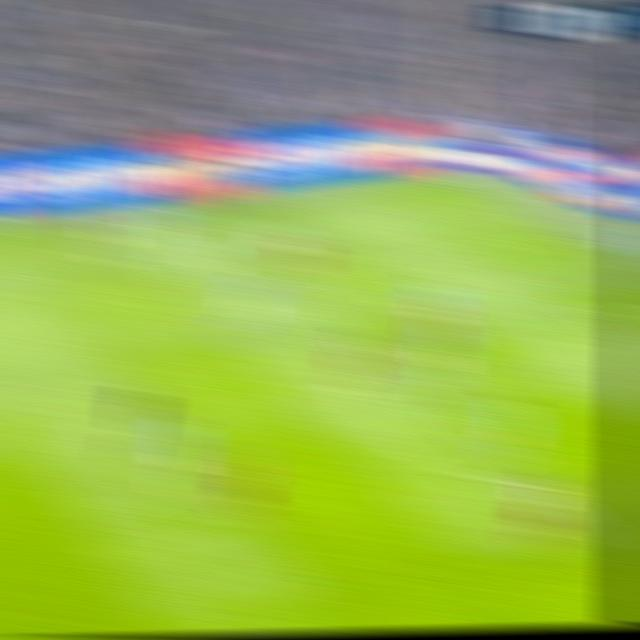bigarea_top_inner: (255, 267, 301, 294)
bigarea_top_outter: (535, 229, 588, 248)
corner: (421, 171, 467, 187)
smallarea_top_inner: (565, 303, 610, 329)
top_arc_area_intersection: (360, 350, 406, 374)
